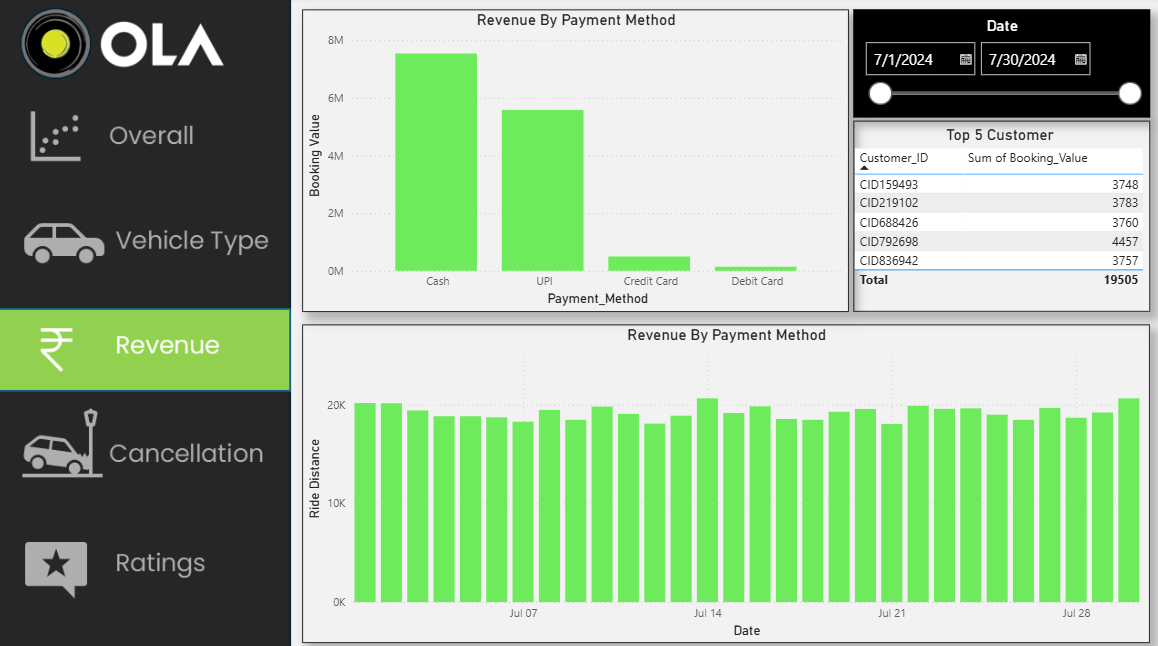

This screenshot's page, from the dashboard's own definition file:
{"tool":"powerbi","page":{"name":"Revenue","canvas":[1280,720],"ordinal":2},"visuals":[{"type":"actionButton","box":[1.4,444.6,322.5,86.4],"z":0},{"type":"actionButton","box":[0,229.2,322.5,90.6],"z":1000},{"type":"actionButton","box":[0,109.8,322.5,90.6],"z":2000},{"type":"actionButton","box":[1.4,576.3,322.5,90.6],"z":3000},{"type":"columnChart","title":"Revenue By Payment Method","fields":{"Y":["Sum(July.Booking_Value)"],"Category":["July.Payment_Method"]},"box":[336.2,13.7,599.7,332.1],"z":3001},{"type":"columnChart","title":"Revenue By Payment Method","fields":{"Y":["Sum(July.Ride_Distance)"],"Category":["July.Date"]},"box":[336.2,359.5,930.4,349.9],"z":3002},{"type":"slicer","title":"Date","fields":{"Values":["July.Date"]},"box":[941.3,13.7,325.2,118],"z":3003},{"type":"tableEx","title":"Top 5 Customer","fields":{"Values":["July.Customer_ID","Sum(July.Booking_Value)"]},"box":[941.3,135.8,325.2,209.9],"z":3004}]}

Visuals, with their boxes in screenshot pixels (x1, y1, x2, y2):
actionButton: 0:398:285:478
actionButton: 0:201:283:284
actionButton: 0:92:283:175
actionButton: 0:519:285:602
"Revenue By Payment Method" columnChart: 296:4:846:308
"Revenue By Payment Method" columnChart: 296:320:1149:641
"Date" slicer: 851:4:1149:112
"Top 5 Customer" tableEx: 851:115:1149:308
